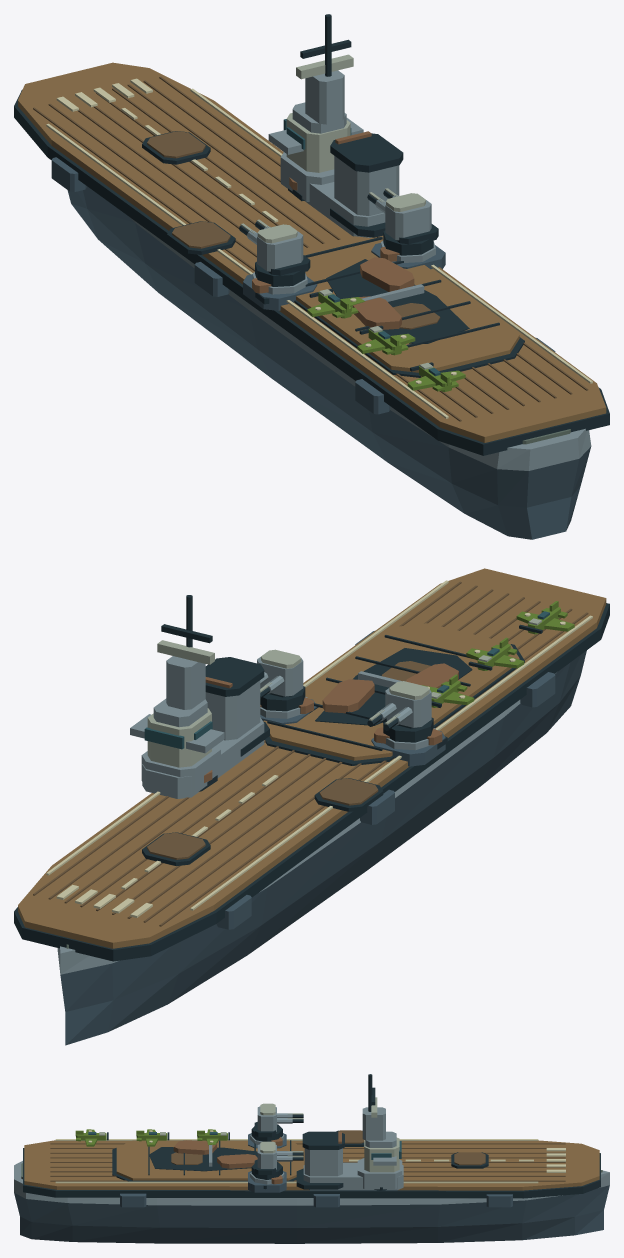
Rendered from historic-wasp-cv7.glb.
3 renders of one model, top to bottom at view 1: azimuth 30°, elevation 25°; view 2: azimuth 150°, elevation 25°; view 3: azimuth 270°, elevation 25°, orthographic. The views are drawn at different scales.
Parts seen in each view (by area): view 1: historic-wasp-cv7-historic-wasp-cv7-geometry, historic-wasp-cv7-part_flight-deck.013-geometry, historic-wasp-cv7-part_bridge.071-geometry, historic-wasp-cv7-historic_funnel_0.074-geometry, historic-wasp-cv7-ruin_flight-deck.012-geometry, historic-wasp-cv7-turret_aa_aa-port.075-geometry, historic-wasp-cv7-turret_aa_aa-starboard.071-geometry, historic-wasp-cv7-aircraft_lift_0.013-geometry, historic-wasp-cv7-aircraft_lift_2.010-geometry, historic-wasp-cv7-part_aa-port.075-geometry, historic-wasp-cv7-parked_aircraft_1.013-geometry, historic-wasp-cv7-parked_aircraft_0.013-geometry (+3 smaller); view 2: historic-wasp-cv7-historic-wasp-cv7-geometry, historic-wasp-cv7-part_flight-deck.013-geometry, historic-wasp-cv7-part_bridge.071-geometry, historic-wasp-cv7-historic_funnel_0.074-geometry, historic-wasp-cv7-ruin_flight-deck.012-geometry, historic-wasp-cv7-turret_aa_aa-port.075-geometry, historic-wasp-cv7-turret_aa_aa-starboard.071-geometry, historic-wasp-cv7-aircraft_lift_2.010-geometry, historic-wasp-cv7-aircraft_lift_0.013-geometry, historic-wasp-cv7-part_aa-port.075-geometry, historic-wasp-cv7-parked_aircraft_0.013-geometry, historic-wasp-cv7-parked_aircraft_1.013-geometry (+1 smaller); view 3: historic-wasp-cv7-historic-wasp-cv7-geometry, historic-wasp-cv7-part_flight-deck.013-geometry, historic-wasp-cv7-historic_funnel_0.074-geometry, historic-wasp-cv7-part_bridge.071-geometry, historic-wasp-cv7-ruin_flight-deck.012-geometry, historic-wasp-cv7-turret_aa_aa-port.075-geometry, historic-wasp-cv7-turret_aa_aa-starboard.071-geometry, historic-wasp-cv7-aircraft_lift_0.013-geometry, historic-wasp-cv7-part_aa-starboard.071-geometry, historic-wasp-cv7-parked_aircraft_1.013-geometry, historic-wasp-cv7-parked_aircraft_0.013-geometry, historic-wasp-cv7-parked_aircraft_2.013-geometry (+2 smaller).
Boxes of the visible parts, x1,y1,x2,y2 form: historic-wasp-cv7-historic-wasp-cv7-geometry: [14, 62, 609, 539]; historic-wasp-cv7-part_flight-deck.013-geometry: [294, 236, 524, 377]; historic-wasp-cv7-part_bridge.071-geometry: [268, 14, 363, 201]; historic-wasp-cv7-historic_funnel_0.074-geometry: [281, 131, 403, 237]; historic-wasp-cv7-ruin_flight-deck.012-geometry: [326, 257, 469, 343]; historic-wasp-cv7-turret_aa_aa-port.075-geometry: [239, 219, 310, 286]; historic-wasp-cv7-turret_aa_aa-starboard.071-geometry: [367, 188, 438, 255]; historic-wasp-cv7-aircraft_lift_0.013-geometry: [142, 131, 210, 164]; historic-wasp-cv7-aircraft_lift_2.010-geometry: [167, 221, 235, 254]; historic-wasp-cv7-part_aa-port.075-geometry: [243, 272, 317, 310]; historic-wasp-cv7-parked_aircraft_1.013-geometry: [357, 325, 415, 355]; historic-wasp-cv7-parked_aircraft_0.013-geometry: [407, 362, 465, 391]; historic-wasp-cv7-historic-wasp-cv7-geometry: [14, 568, 609, 1045]; historic-wasp-cv7-part_flight-deck.013-geometry: [263, 623, 524, 765]; historic-wasp-cv7-part_bridge.071-geometry: [130, 595, 224, 794]; historic-wasp-cv7-historic_funnel_0.074-geometry: [142, 657, 269, 798]; historic-wasp-cv7-ruin_flight-deck.012-geometry: [315, 648, 472, 725]; historic-wasp-cv7-turret_aa_aa-port.075-geometry: [367, 681, 433, 742]; historic-wasp-cv7-turret_aa_aa-starboard.071-geometry: [257, 649, 305, 711]; historic-wasp-cv7-aircraft_lift_2.010-geometry: [314, 778, 383, 811]; historic-wasp-cv7-aircraft_lift_0.013-geometry: [142, 832, 210, 865]; historic-wasp-cv7-part_aa-port.075-geometry: [371, 728, 445, 766]; historic-wasp-cv7-parked_aircraft_0.013-geometry: [516, 601, 574, 634]; historic-wasp-cv7-parked_aircraft_1.013-geometry: [466, 637, 524, 670]; historic-wasp-cv7-historic-wasp-cv7-geometry: [14, 1139, 609, 1243]; historic-wasp-cv7-part_flight-deck.013-geometry: [112, 1140, 304, 1181]; historic-wasp-cv7-historic_funnel_0.074-geometry: [296, 1131, 403, 1190]; historic-wasp-cv7-part_bridge.071-geometry: [357, 1074, 402, 1189]; historic-wasp-cv7-ruin_flight-deck.012-geometry: [149, 1140, 257, 1171]; historic-wasp-cv7-turret_aa_aa-port.075-geometry: [251, 1103, 303, 1141]; historic-wasp-cv7-turret_aa_aa-starboard.071-geometry: [251, 1141, 303, 1179]; historic-wasp-cv7-aircraft_lift_0.013-geometry: [451, 1152, 488, 1168]; historic-wasp-cv7-part_aa-starboard.071-geometry: [248, 1171, 286, 1192]; historic-wasp-cv7-parked_aircraft_1.013-geometry: [136, 1129, 169, 1146]; historic-wasp-cv7-parked_aircraft_0.013-geometry: [75, 1129, 108, 1146]; historic-wasp-cv7-parked_aircraft_2.013-geometry: [197, 1129, 229, 1145].
Size of the model in its own units: 1.41 by 1.92 by 5.89.
